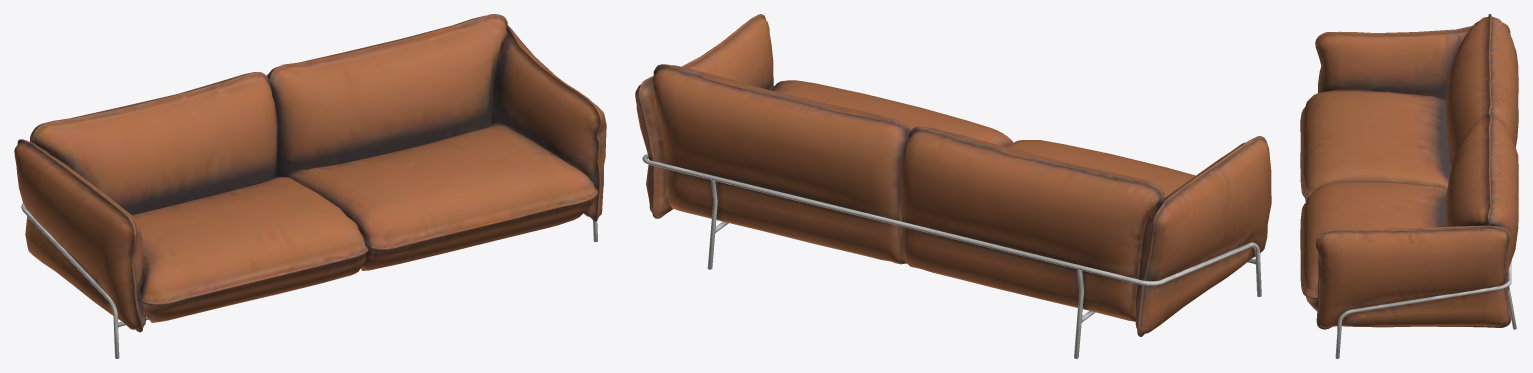
Rendered from SM_Continental_Sofa_e2817f.glb.
3 renders of one model, left to right at view 1: azimuth 30°, elevation 25°; view 2: azimuth 150°, elevation 25°; view 3: azimuth 270°, elevation 25°, orthographic. The views are drawn at different scales.
Size of the model in its own units: 2.27 by 0.7255 by 0.984.
Materials: 1 (1 with a texture image).
